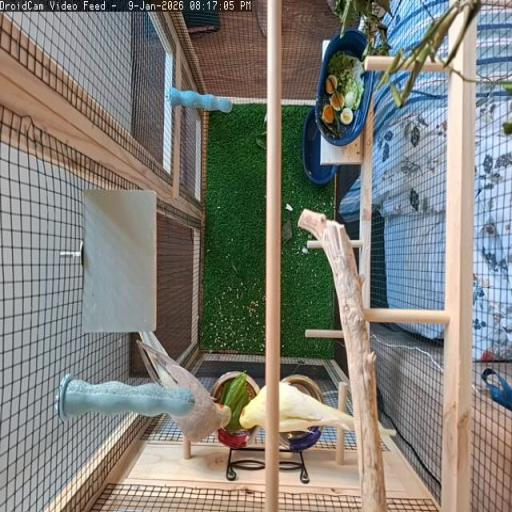bebedero: (282, 374, 324, 402), (282, 427, 322, 450)
comedero: (213, 371, 258, 448)
ninfa: (138, 333, 230, 442), (271, 383, 354, 433), (239, 386, 267, 428)
